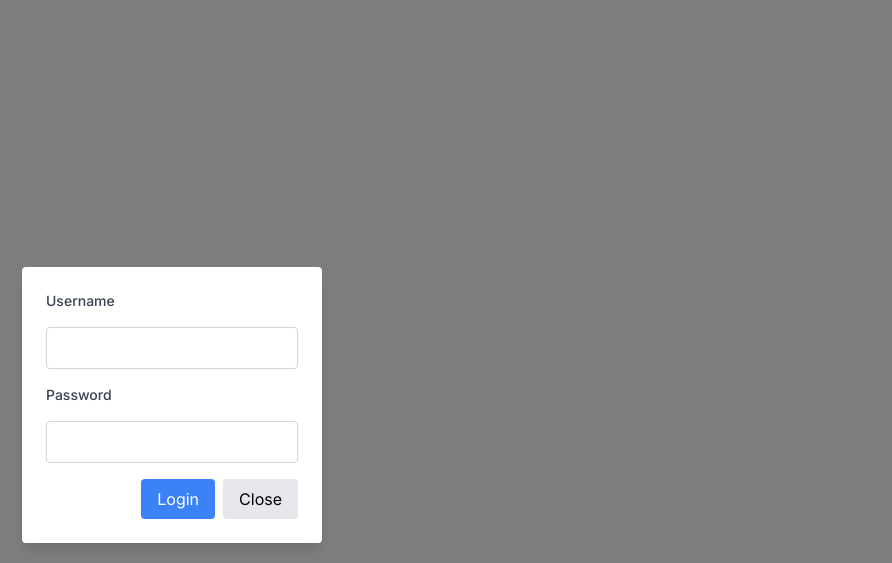
Test: LoginModal › submits the form with the entered values
Type "testuser" into the field labelled "Username" at (172, 348), box [46, 327, 298, 369]
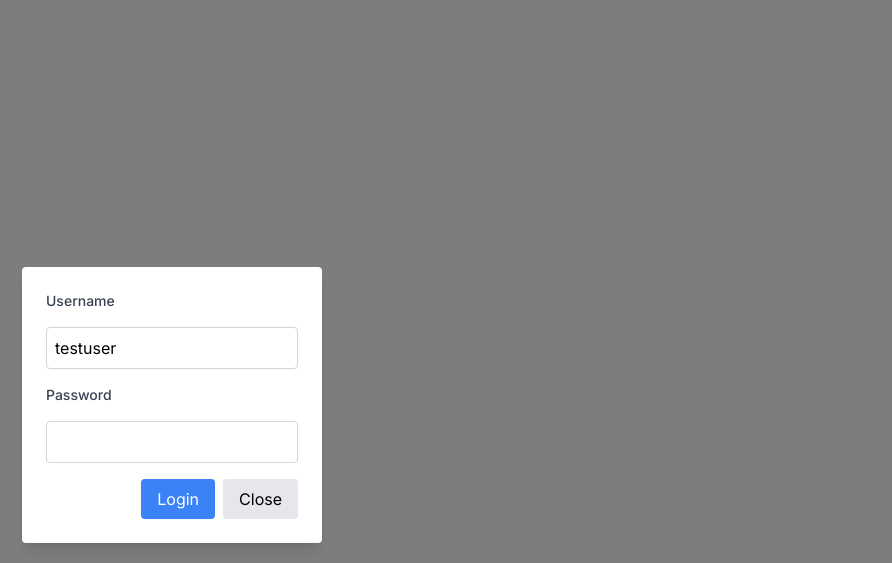
Type "testpass" into the password field labelled "Password" at (172, 442), box [46, 421, 298, 463]
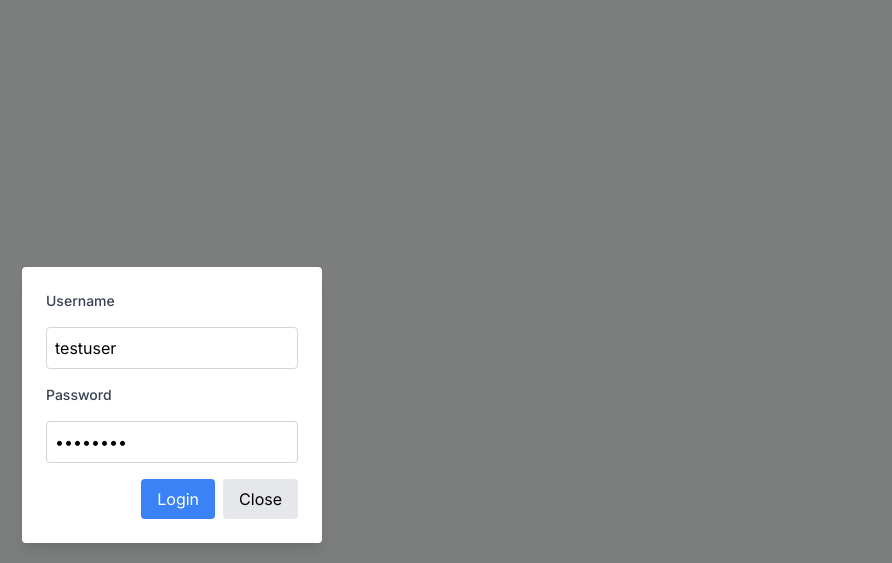
Submit the form with test id "login-form", box [46, 291, 298, 519]
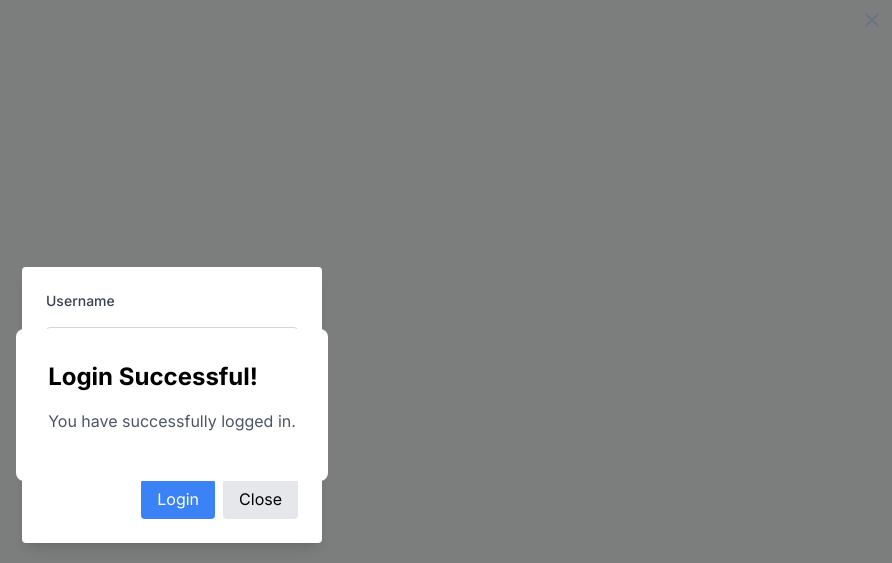
Expected: the element with test id "login-success-modal" is shown, [16, 329, 328, 481]
